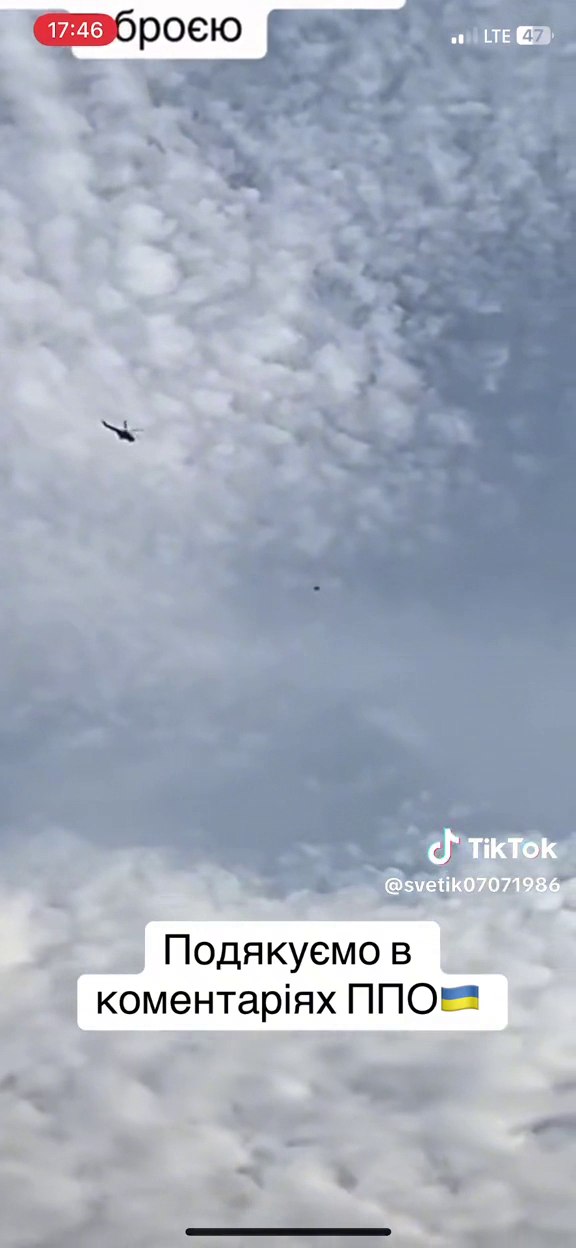not_drone: (98, 414, 146, 445)
